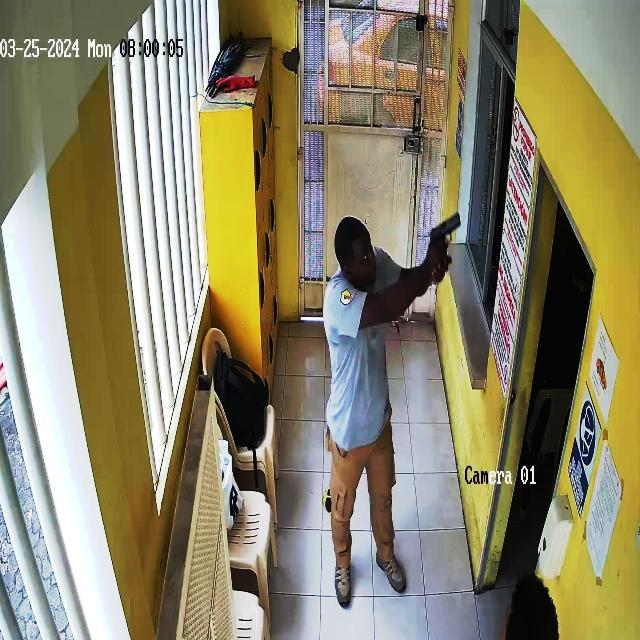Gun: (428, 200, 472, 258)
